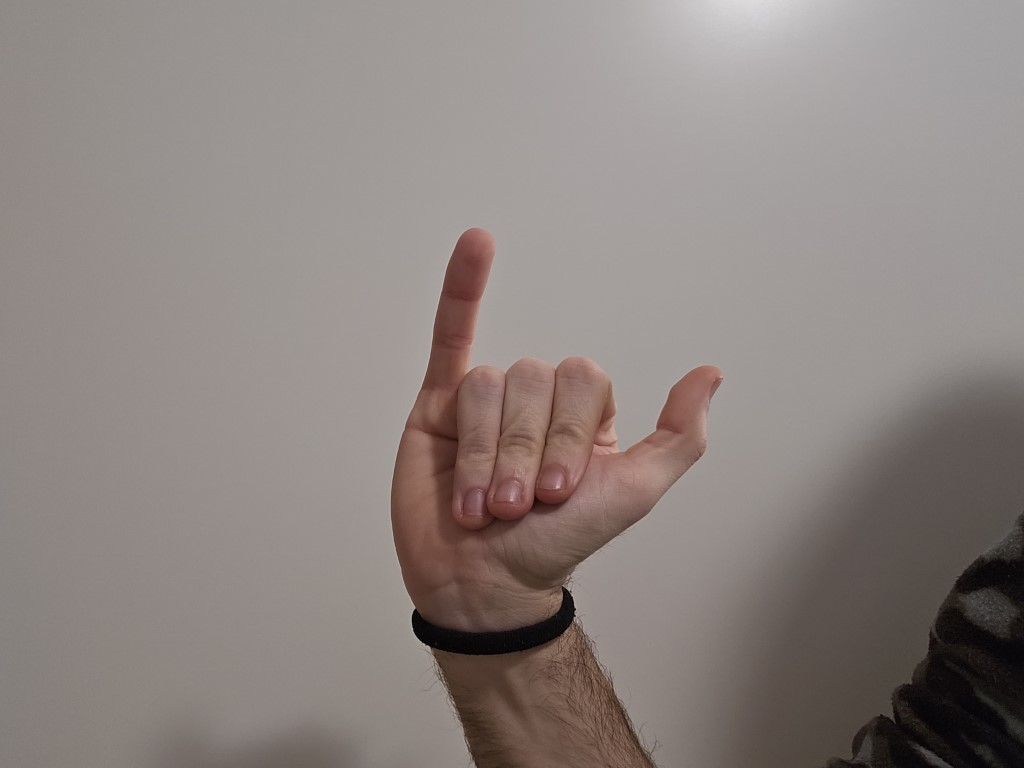y: (376, 212, 737, 615)
